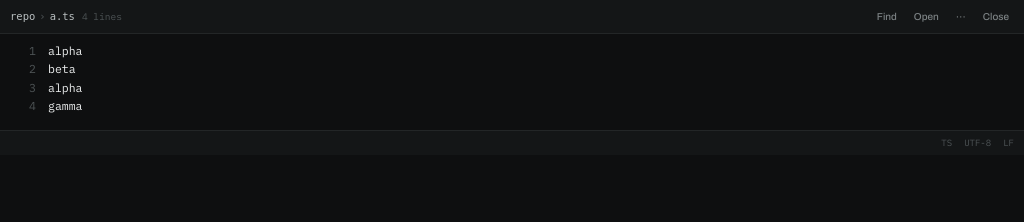
Scenario: FileViewer — a real code surface (§3.1) › finds matches, counts them, and steps through
The width and height of the screenshot is (1024, 222).
Expected: the text "beta" is shown, [48,61,76,76]
Step 1. Click the button "Find" → click(887, 16), box [872,8,902,25]
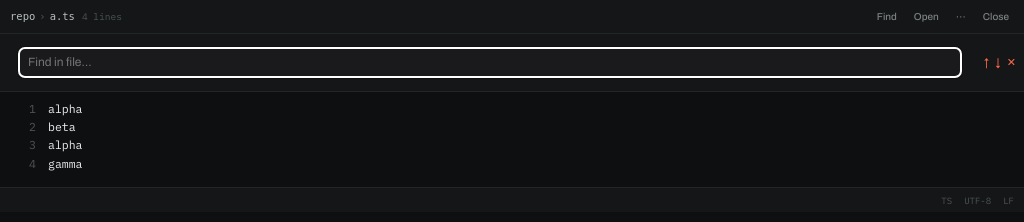
Step 2. Type "alpha" into the field with placeholder "Find in file…" → (490, 62), box [18,47,962,78]
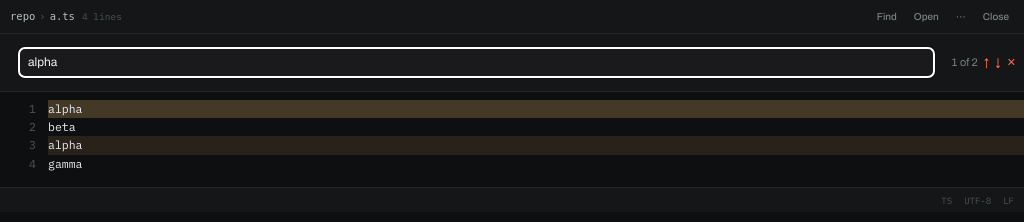
Expected: the number of elements with class "hit" is 2, [0,100,1023,118]; [0,136,1023,155]
Expected: the text "1 of 2" is shown, [951,54,978,71]
Step 3. Click the button named "Next match" → click(998, 62), box [995,53,1001,71]
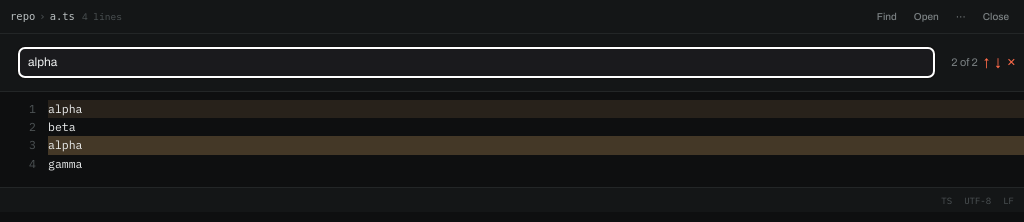
Expected: the text "2 of 2" is shown, [951,54,978,71]
# Wrapping round is what makes "next" usable without checking the count.
Step 4. Click the button named "Next match" → click(998, 62), box [995,53,1001,71]
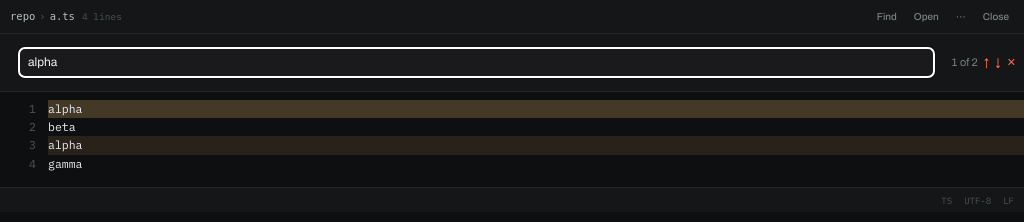
Expected: the text "1 of 2" is shown, [951,54,978,71]
